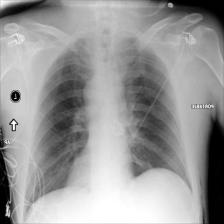normal: (22, 32, 194, 216)
